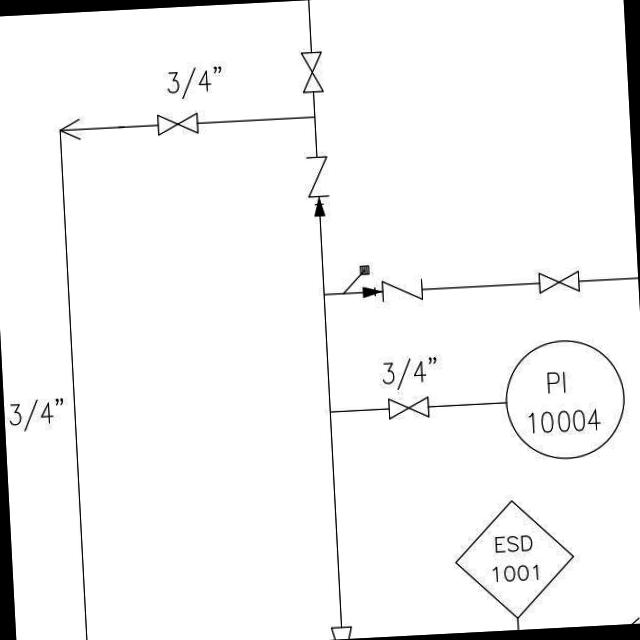GV: (534, 264, 586, 298), (382, 390, 433, 422), (298, 44, 326, 98), (152, 108, 201, 138)
